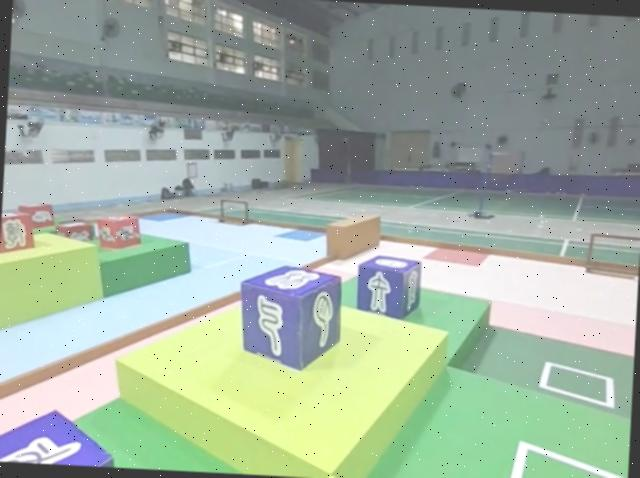R2 Fake Blue: (235, 263, 346, 373), (0, 403, 120, 468), (353, 251, 422, 318)
